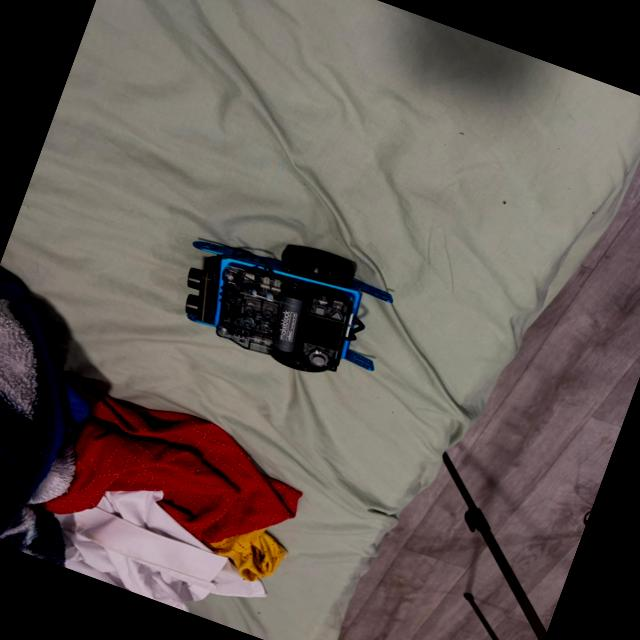mbot-detection: (158, 203, 412, 400)
